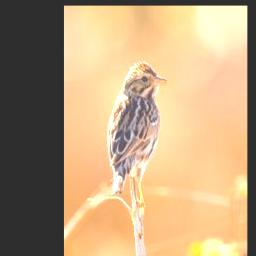Sparrow: (106, 60, 170, 220)
